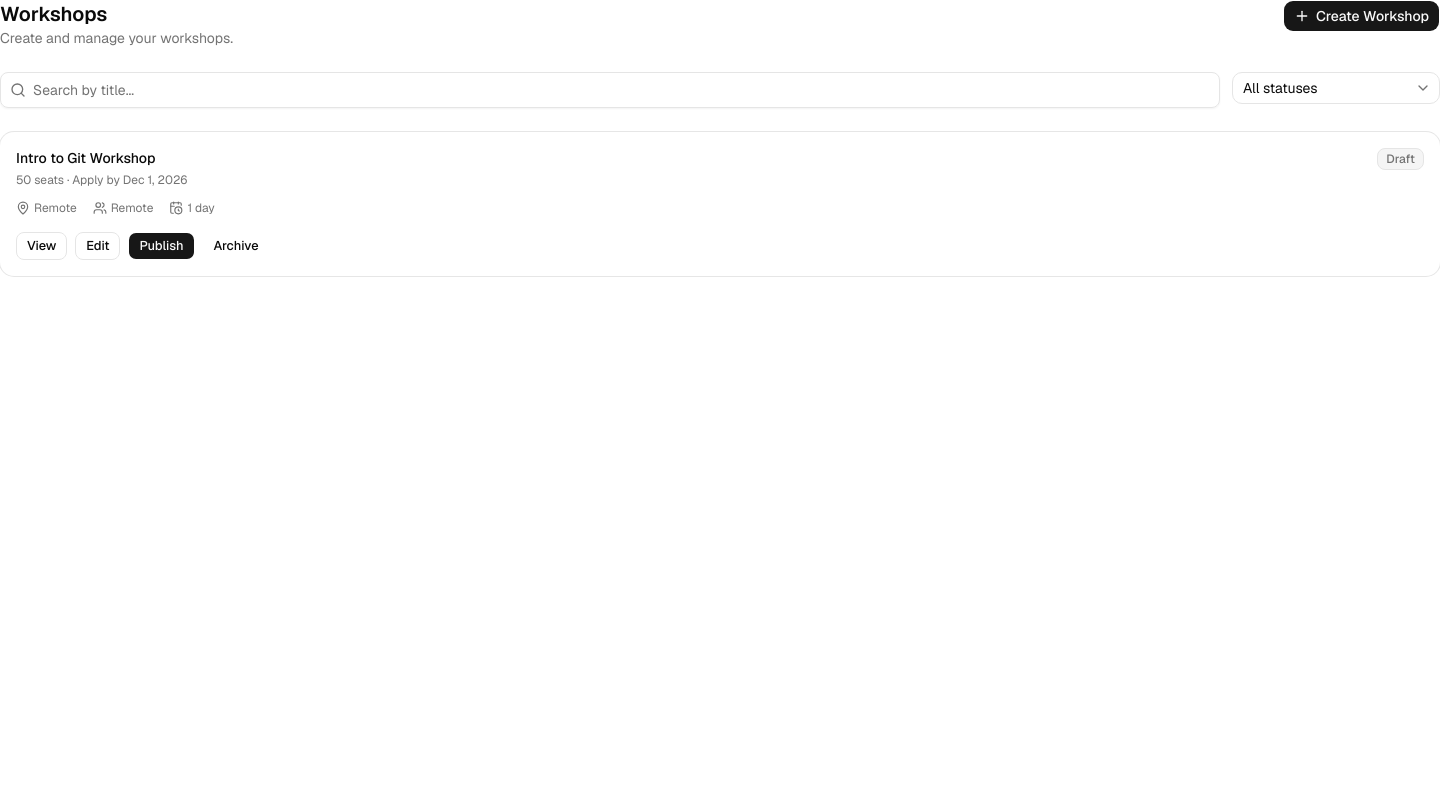
Test: WorkshopsListView › publishes a workshop through the confirmation dialog
The width and height of the screenshot is (1440, 810).
expect the link "Intro to Git Workshop" is shown: met, box x1=16 y1=149 x2=156 y2=167
What coordinates should you click on to do the following:
click the button "Publish"
I would click on:
 (162, 246)
Its box is x1=128 y1=232 x2=195 y2=260.
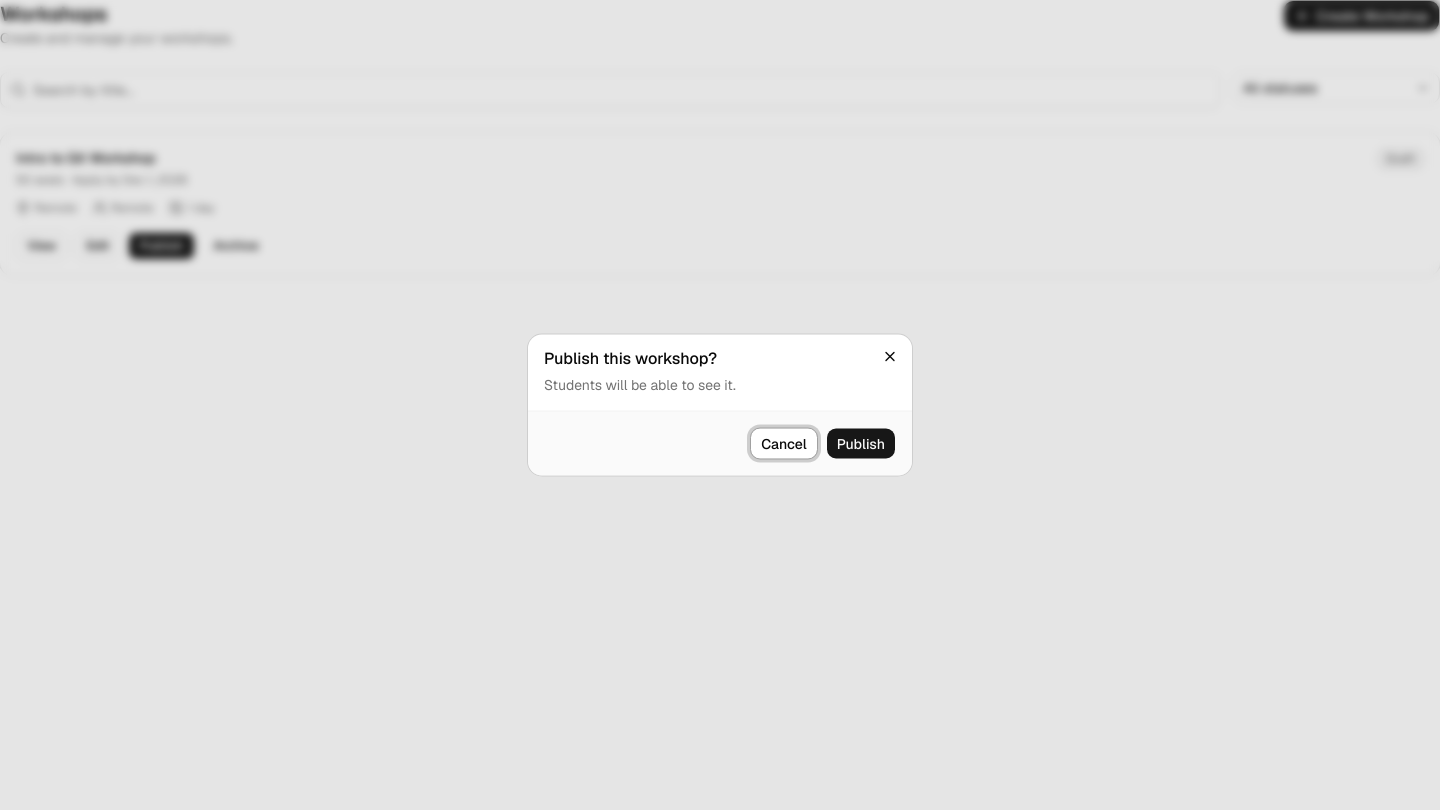
What coordinates should you click on to do the following:
click the button "Publish"
I would click on:
 (861, 444)
Its box is x1=826 y1=428 x2=896 y2=460.
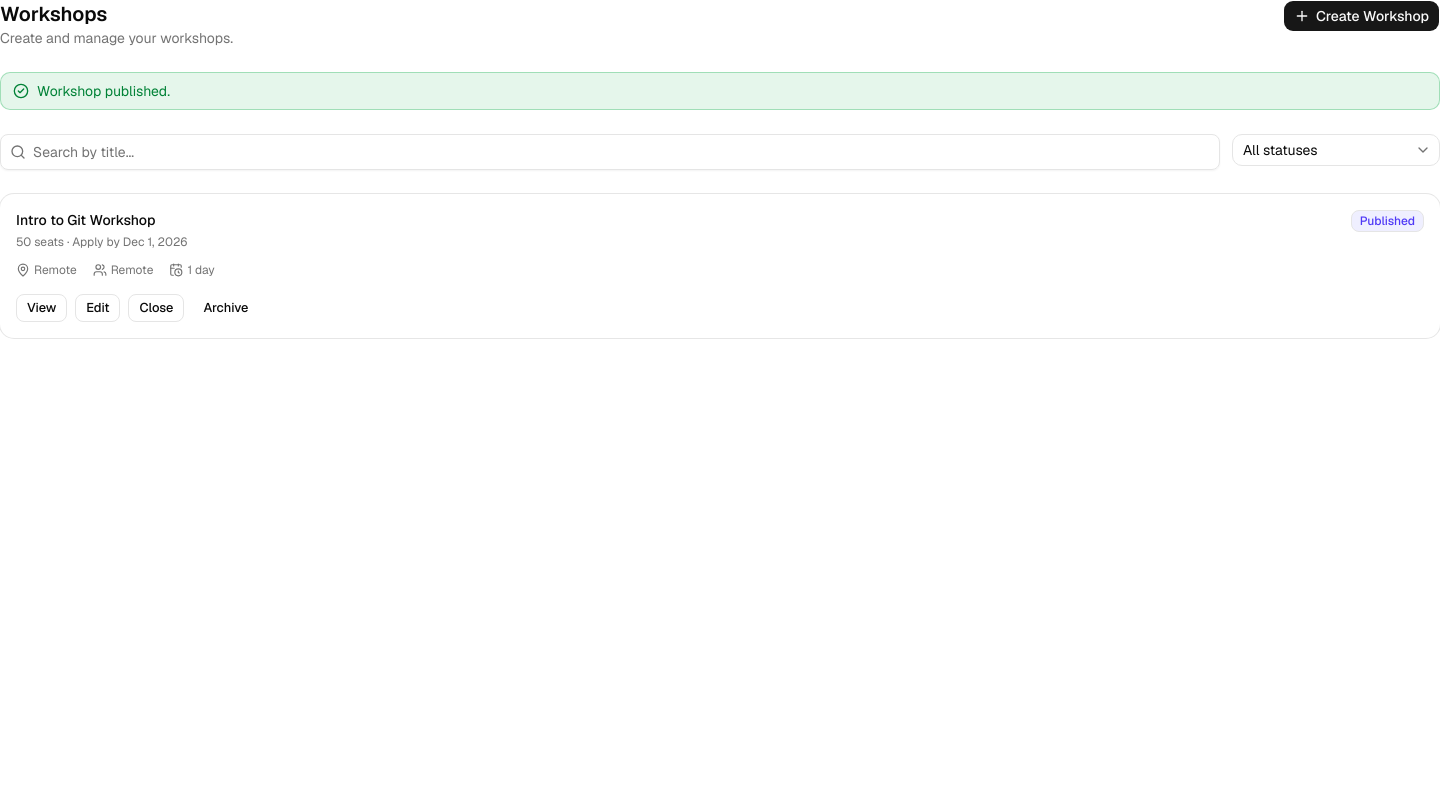
expect the text "Workshop published." is shown: met, box x1=37 y1=81 x2=170 y2=101
